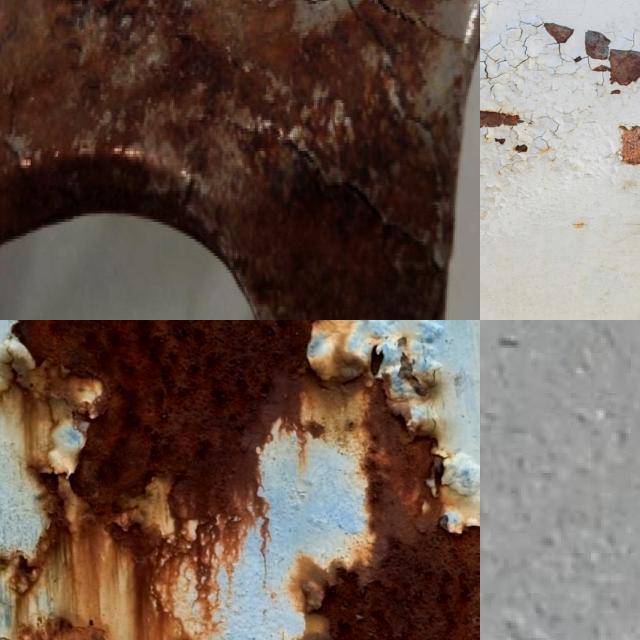Crack: (233, 104, 455, 290)
Pitting Corrosion: (14, 320, 319, 584), (286, 374, 480, 640)
Uniform Corrosion: (53, 525, 166, 640), (609, 49, 640, 85), (619, 126, 640, 165), (585, 31, 609, 59), (544, 23, 573, 43)
